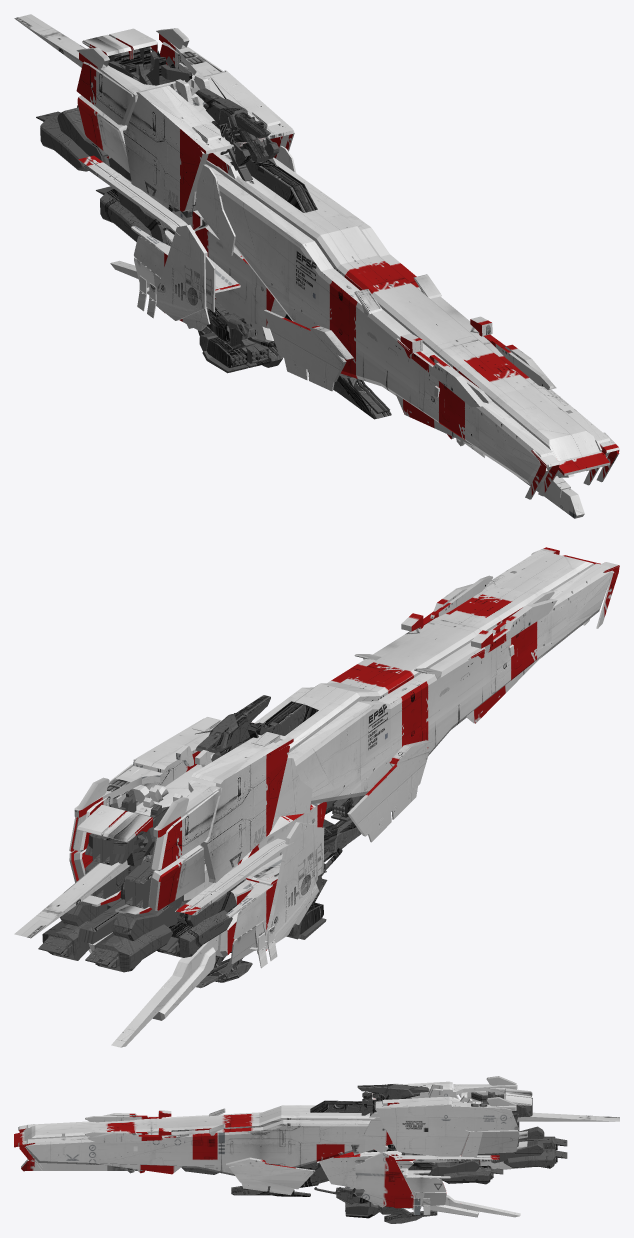
The model's file is battleship002.FBX.
The picture shows the model from 3 angles, top to bottom: view 1: azimuth 30°, elevation 25°; view 2: azimuth 150°, elevation 25°; view 3: azimuth 270°, elevation 25°; orthographic projection. The views are drawn at different scales.
Parts seen in each view (by area): view 1: headbody002, detailbody002, mainbody002, mainframe002, mainbody001, bridge002; view 2: headbody002, mainbody002, detailbody002, mainframe002, mainbody001, bridge002; view 3: headbody002, detailbody002, mainbody002, mainframe002, mainbody001, bridge002.
Boxes of the visible parts, <box> form: headbody002: <box>195,157,610,484</box>; detailbody002: <box>14,14,619,518</box>; mainbody002: <box>76,28,294,211</box>; mainframe002: <box>36,46,391,419</box>; mainbody001: <box>110,173,286,343</box>; bridge002: <box>195,78,279,181</box>; headbody002: <box>255,549,612,804</box>; mainbody002: <box>69,717,293,914</box>; detailbody002: <box>14,547,619,968</box>; mainframe002: <box>38,701,364,988</box>; mainbody001: <box>88,802,326,1047</box>; bridge002: <box>195,695,280,761</box>; headbody002: <box>23,1105,375,1175</box>; detailbody002: <box>14,1083,619,1214</box>; mainbody002: <box>369,1076,532,1156</box>; mainframe002: <box>182,1091,567,1223</box>; mainbody001: <box>319,1150,528,1217</box>; bridge002: <box>357,1084,429,1115</box>.
Size of the model in its own units: 2011 by 3980 by 15829.
